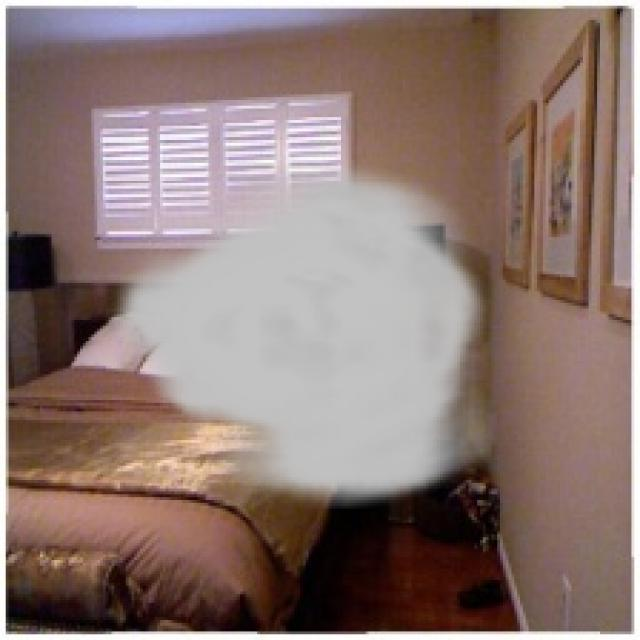smoke: (106, 157, 491, 509)
